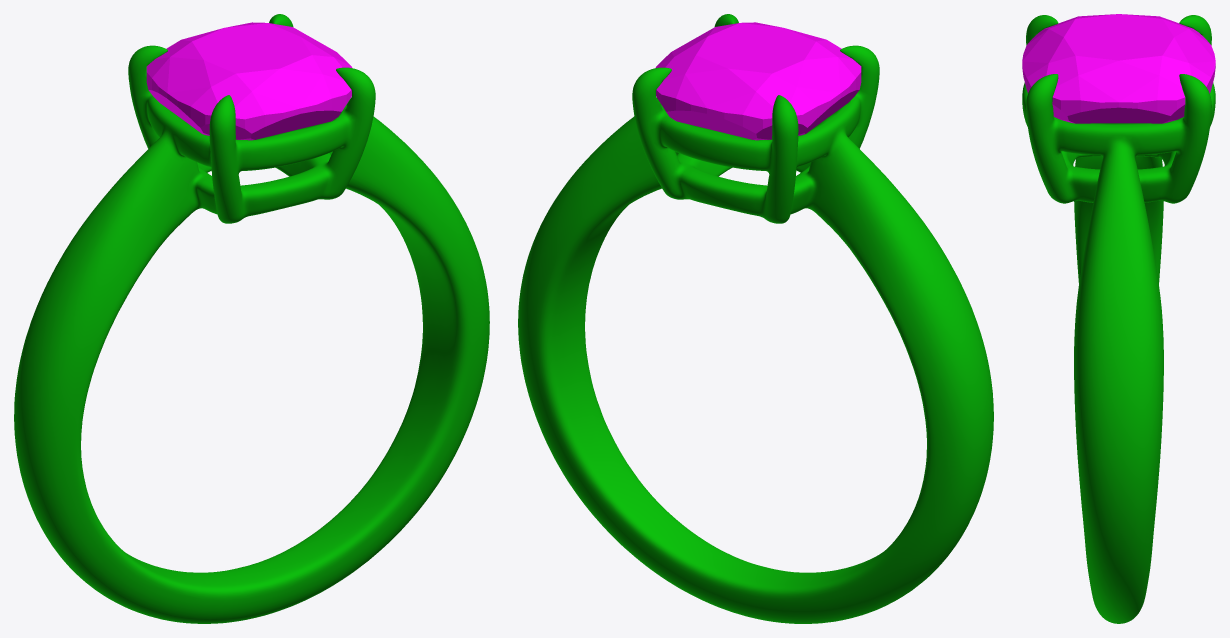
The model's file is BE1293_CU_200ct_RENDER.glb.
3 renders of one model, left to right at view 1: azimuth 30°, elevation 25°; view 2: azimuth 150°, elevation 25°; view 3: azimuth 270°, elevation 25°, orthographic.
Parts seen in each view (by area): view 1: Metal 01, CS_Diamond_Cushion; view 2: Metal 01, CS_Diamond_Cushion; view 3: Metal 01, CS_Diamond_Cushion.
Part boxes in pixels (left/top/right/bottom): Metal 01: left=14, top=14, right=489, bottom=623; CS_Diamond_Cushion: left=146, top=22, right=352, bottom=140; Metal 01: left=518, top=14, right=993, bottom=623; CS_Diamond_Cushion: left=655, top=22, right=861, bottom=140; Metal 01: left=1022, top=15, right=1215, bottom=623; CS_Diamond_Cushion: left=1022, top=14, right=1215, bottom=123.
Bounding box in the file's own units: 20.5 × 24.04 × 7.5.
